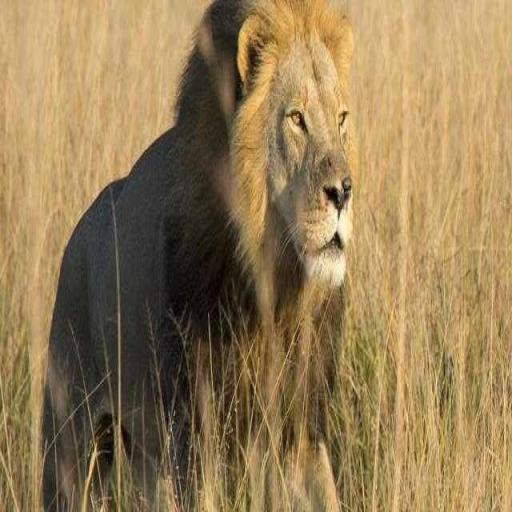Lion: (39, 0, 356, 509)
